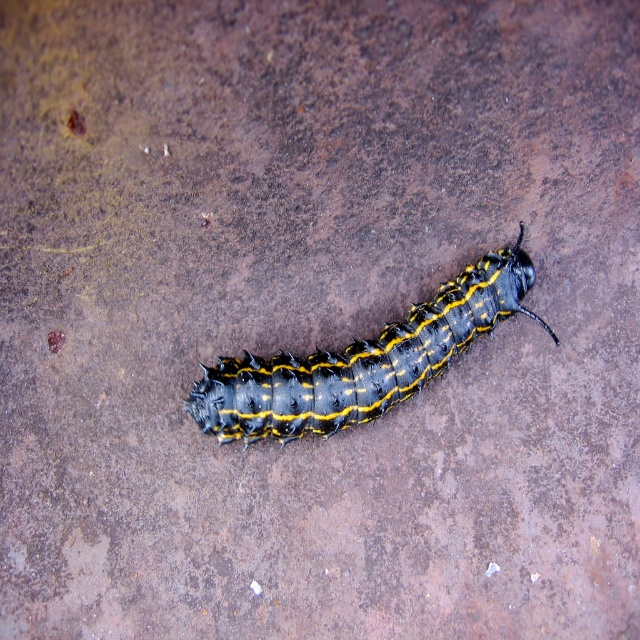Caterpillar: (184, 222, 561, 449)
